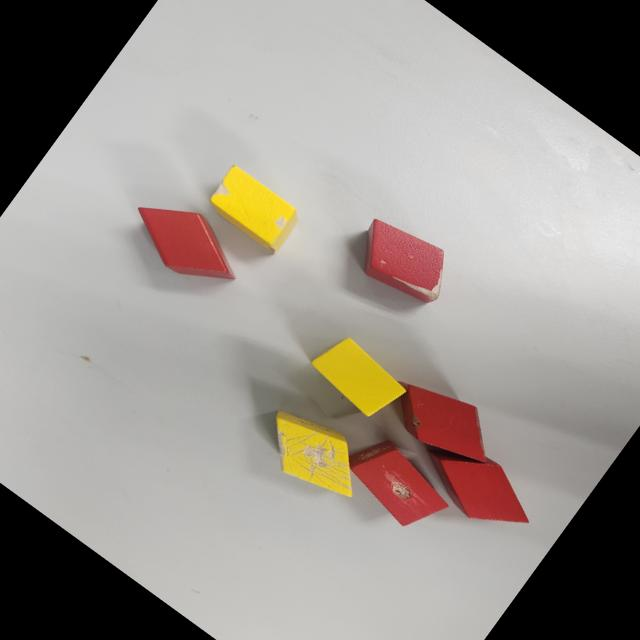broken: (375, 362, 507, 481), (246, 394, 374, 513), (332, 426, 460, 542), (343, 206, 462, 318), (203, 162, 304, 255)
red: (408, 424, 547, 549), (119, 182, 254, 304)
yellow: (303, 327, 413, 428)
